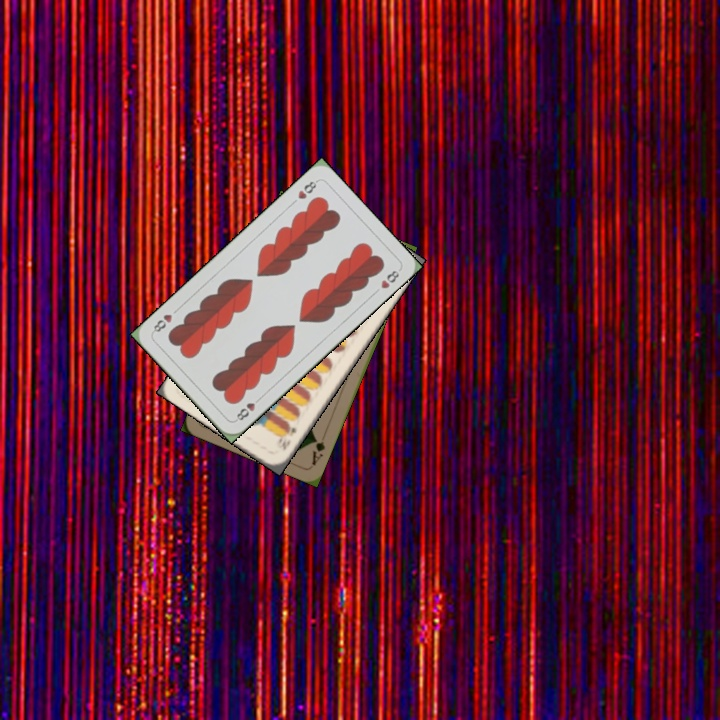E10: (274, 421, 299, 452)
GA: (307, 435, 328, 468)
H8: (231, 393, 264, 424), (294, 176, 321, 202)
